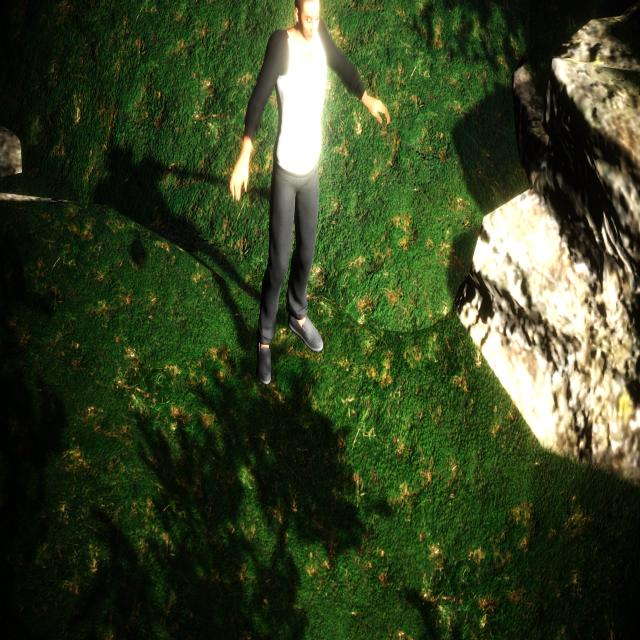Human: (226, 0, 392, 393)
